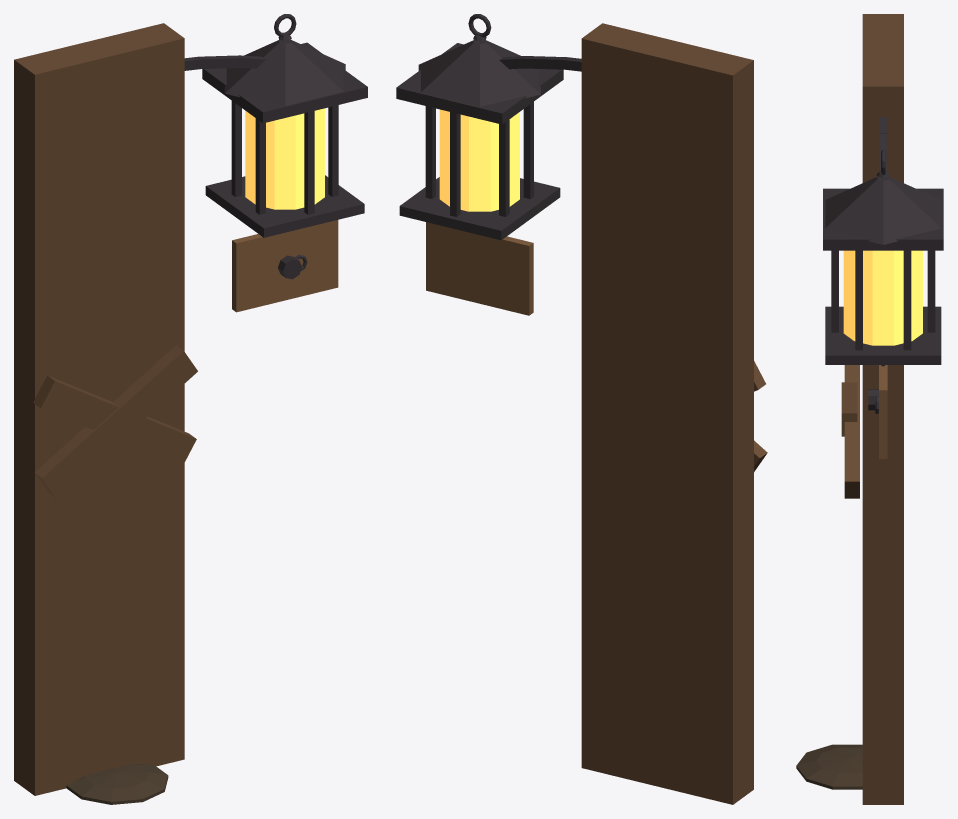
File: SM_Lamp_TavernBracket_02.glb
3 views of the same model, side by side, from view 1: azimuth 30°, elevation 25°; view 2: azimuth 150°, elevation 25°; view 3: azimuth 270°, elevation 25° (orthographic).
Parts seen in each view (by area): view 1: SM_Lamp_TavernBracket_02_WallStub, SM_Lamp_TavernBracket_02_Sign, SM_Lamp_TavernBracket_02_Timber1, SM_Lamp_TavernBracket_02_HeadGlass, SM_Lamp_TavernBracket_02_HeadRoof, SM_Lamp_TavernBracket_02_Timber0, SM_Lamp_TavernBracket_02_HeadBase, SM_Lamp_TavernBracket_02_Mound, SM_Lamp_TavernBracket_02_HeadCap, SM_Lamp_TavernBracket_02_HeadPost4, SM_Lamp_TavernBracket_02_HeadPost3, SM_Lamp_TavernBracket_02_HeadPost2 (+1 smaller); view 2: SM_Lamp_TavernBracket_02_WallStub, SM_Lamp_TavernBracket_02_Sign, SM_Lamp_TavernBracket_02_HeadGlass, SM_Lamp_TavernBracket_02_HeadRoof, SM_Lamp_TavernBracket_02_HeadBase, SM_Lamp_TavernBracket_02_HeadCap, SM_Lamp_TavernBracket_02_HeadPost1, SM_Lamp_TavernBracket_02_HeadPost2, SM_Lamp_TavernBracket_02_HeadPost3, SM_Lamp_TavernBracket_02_HeadPost0; view 3: SM_Lamp_TavernBracket_02_WallStub, SM_Lamp_TavernBracket_02_HeadGlass, SM_Lamp_TavernBracket_02_HeadRoof, SM_Lamp_TavernBracket_02_HeadBase, SM_Lamp_TavernBracket_02_Mound, SM_Lamp_TavernBracket_02_HeadCap, SM_Lamp_TavernBracket_02_Timber0, SM_Lamp_TavernBracket_02_HeadPost0, SM_Lamp_TavernBracket_02_Sign, SM_Lamp_TavernBracket_02_HeadPost5, SM_Lamp_TavernBracket_02_HeadPost1, SM_Lamp_TavernBracket_02_Timber1 (+1 smaller).
Part boxes in pixels (x1,y1,x2,y2): SM_Lamp_TavernBracket_02_WallStub: [14, 23, 184, 795]; SM_Lamp_TavernBracket_02_Sign: [232, 220, 338, 312]; SM_Lamp_TavernBracket_02_Timber1: [34, 345, 197, 498]; SM_Lamp_TavernBracket_02_HeadGlass: [245, 108, 324, 209]; SM_Lamp_TavernBracket_02_HeadRoof: [224, 39, 345, 105]; SM_Lamp_TavernBracket_02_Timber0: [33, 375, 196, 466]; SM_Lamp_TavernBracket_02_HeadBase: [205, 175, 364, 237]; SM_Lamp_TavernBracket_02_Mound: [66, 764, 168, 804]; SM_Lamp_TavernBracket_02_HeadCap: [202, 42, 367, 123]; SM_Lamp_TavernBracket_02_HeadPost4: [304, 111, 314, 214]; SM_Lamp_TavernBracket_02_HeadPost3: [255, 118, 265, 214]; SM_Lamp_TavernBracket_02_HeadPost2: [231, 101, 241, 196]; SM_Lamp_TavernBracket_02_WallStub: [581, 23, 753, 804]; SM_Lamp_TavernBracket_02_Sign: [426, 222, 533, 315]; SM_Lamp_TavernBracket_02_HeadGlass: [439, 109, 519, 211]; SM_Lamp_TavernBracket_02_HeadRoof: [418, 40, 540, 106]; SM_Lamp_TavernBracket_02_HeadBase: [399, 177, 560, 240]; SM_Lamp_TavernBracket_02_HeadCap: [396, 43, 563, 124]; SM_Lamp_TavernBracket_02_HeadPost1: [450, 112, 460, 216]; SM_Lamp_TavernBracket_02_HeadPost2: [499, 119, 509, 216]; SM_Lamp_TavernBracket_02_HeadPost3: [523, 101, 533, 198]; SM_Lamp_TavernBracket_02_HeadPost0: [425, 106, 435, 198]; SM_Lamp_TavernBracket_02_WallStub: [862, 14, 903, 804]; SM_Lamp_TavernBracket_02_HeadGlass: [843, 250, 922, 345]; SM_Lamp_TavernBracket_02_HeadRoof: [825, 176, 941, 244]; SM_Lamp_TavernBracket_02_HeadBase: [825, 306, 941, 364]; SM_Lamp_TavernBracket_02_Mound: [796, 744, 862, 789]; SM_Lamp_TavernBracket_02_HeadCap: [823, 188, 943, 250]; SM_Lamp_TavernBracket_02_Timber0: [844, 365, 859, 498]; SM_Lamp_TavernBracket_02_HeadPost0: [903, 250, 911, 350]; SM_Lamp_TavernBracket_02_Sign: [879, 365, 887, 458]; SM_Lamp_TavernBracket_02_HeadPost5: [855, 250, 862, 350]; SM_Lamp_TavernBracket_02_HeadPost1: [927, 250, 935, 332]; SM_Lamp_TavernBracket_02_Timber1: [841, 382, 857, 436].
Bounding box in the file's own units: 1.08 × 2.3 × 0.4272.
